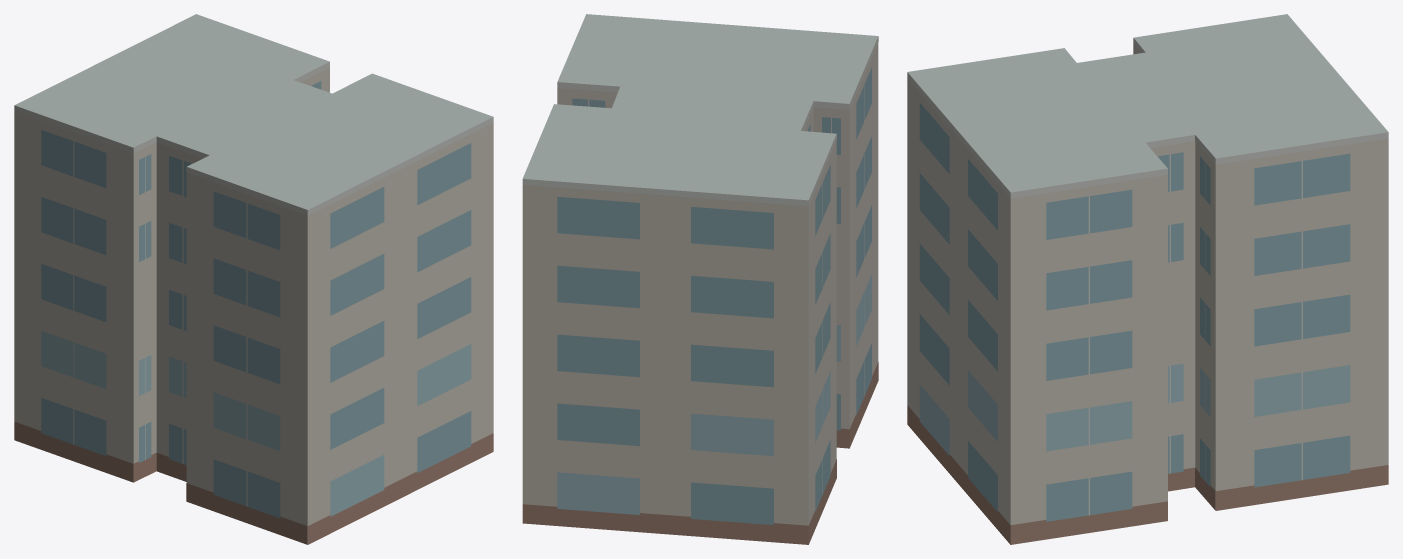
The model's file is survey-upis-32853010.glb.
3 renders of one model, left to right at view 1: azimuth 30°, elevation 25°; view 2: azimuth 150°, elevation 25°; view 3: azimuth 270°, elevation 25°, orthographic. The views are drawn at different scales.
Visible parts, largest first — view 1: survey-upis-32853010.tmp; view 2: survey-upis-32853010.tmp; view 3: survey-upis-32853010.tmp.
Part boxes in pixels (bbox=[...]): survey-upis-32853010.tmp: bbox=[14, 14, 493, 544]; survey-upis-32853010.tmp: bbox=[522, 14, 878, 544]; survey-upis-32853010.tmp: bbox=[907, 14, 1388, 544].
Size of the model in its own units: 15.22 by 14 by 17.34.
